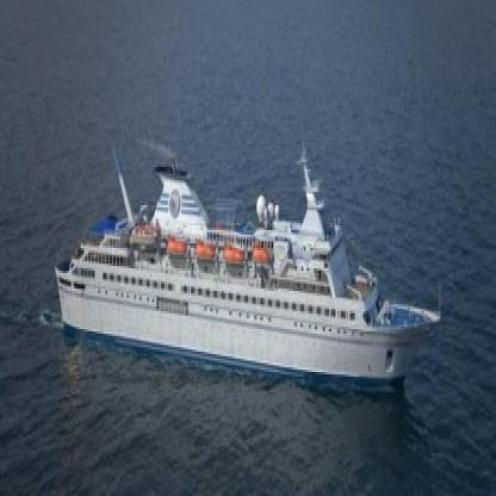Ship: (39, 198, 441, 396)
